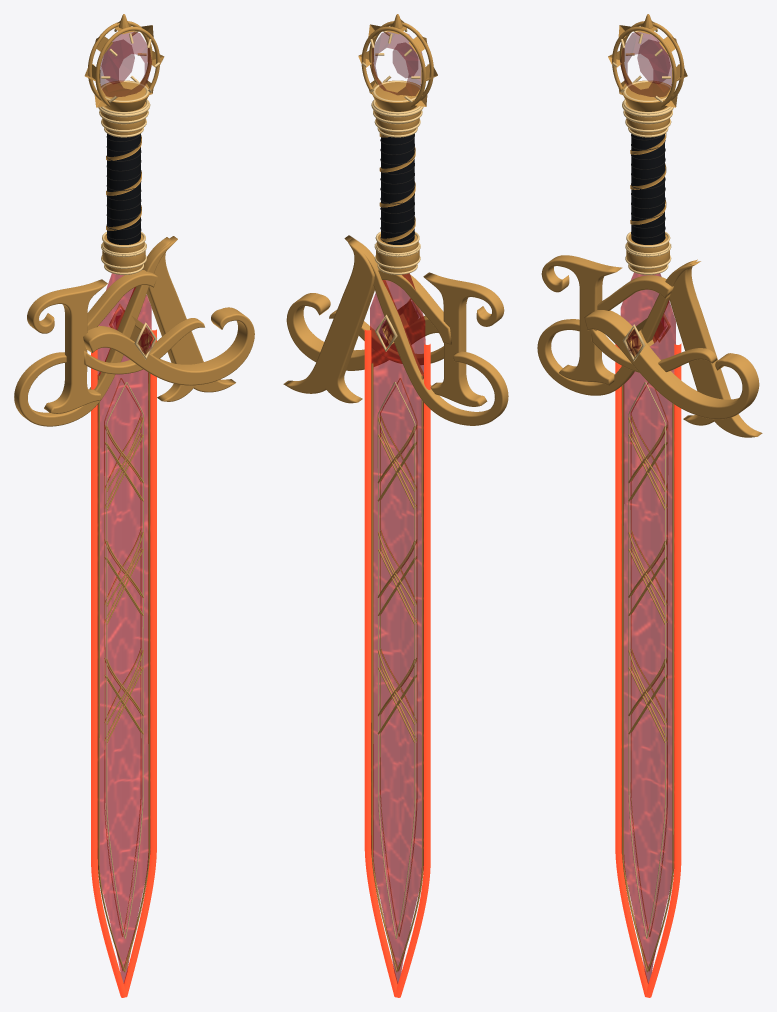
Rendered from Royal_Flameblade_Review.glb.
3 views of the same model, side by side, from view 1: azimuth 30°, elevation 25°; view 2: azimuth 150°, elevation 25°; view 3: azimuth 330°, elevation 25° (orthographic).
Visible parts, largest first — view 1: Royal Flameblade • Complete Sword; view 2: Royal Flameblade • Complete Sword; view 3: Royal Flameblade • Complete Sword.
Boxes of the visible parts, x1=… form: Royal Flameblade • Complete Sword: x1=14, y1=14, x2=254, y2=997; Royal Flameblade • Complete Sword: x1=283, y1=14, x2=508, y2=997; Royal Flameblade • Complete Sword: x1=537, y1=14, x2=762, y2=997.
Bounding box in the file's own units: 0.2736 × 1.14 × 0.0698.
Materials: 7 (1 with a texture image).
